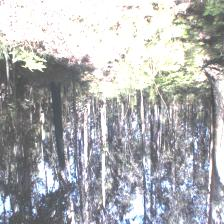trunktrack_idkeyframe: (50, 82, 66, 162), (72, 82, 78, 160)
